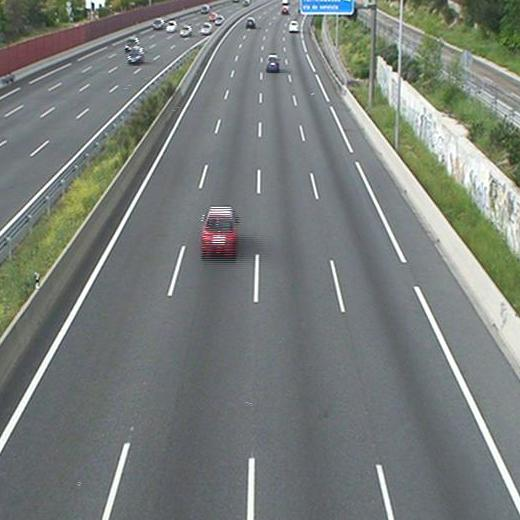car: (200, 208, 237, 253), (266, 55, 280, 70), (288, 21, 299, 32), (245, 17, 254, 28), (280, 6, 289, 14)
